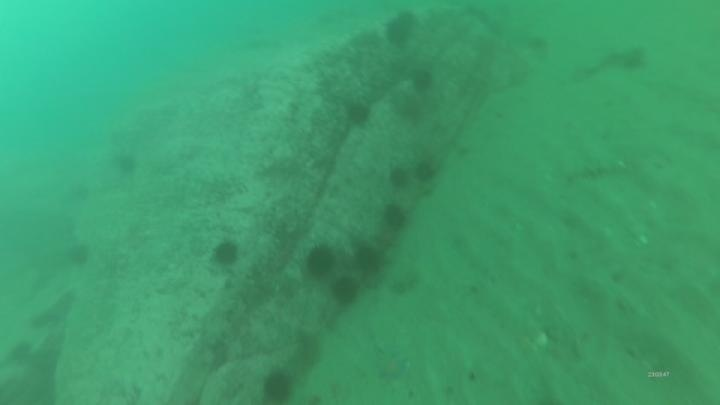echinus: (292, 330, 325, 373), (382, 11, 419, 49), (303, 242, 338, 280), (260, 368, 296, 404), (351, 242, 385, 276), (329, 275, 362, 308), (616, 44, 650, 74), (210, 238, 242, 269), (380, 201, 410, 233), (343, 99, 374, 129), (408, 66, 437, 96), (111, 150, 140, 178), (64, 241, 93, 269), (412, 157, 440, 185), (386, 164, 412, 191)
holothurian: (561, 154, 630, 184)
starfish: (372, 349, 411, 385)
